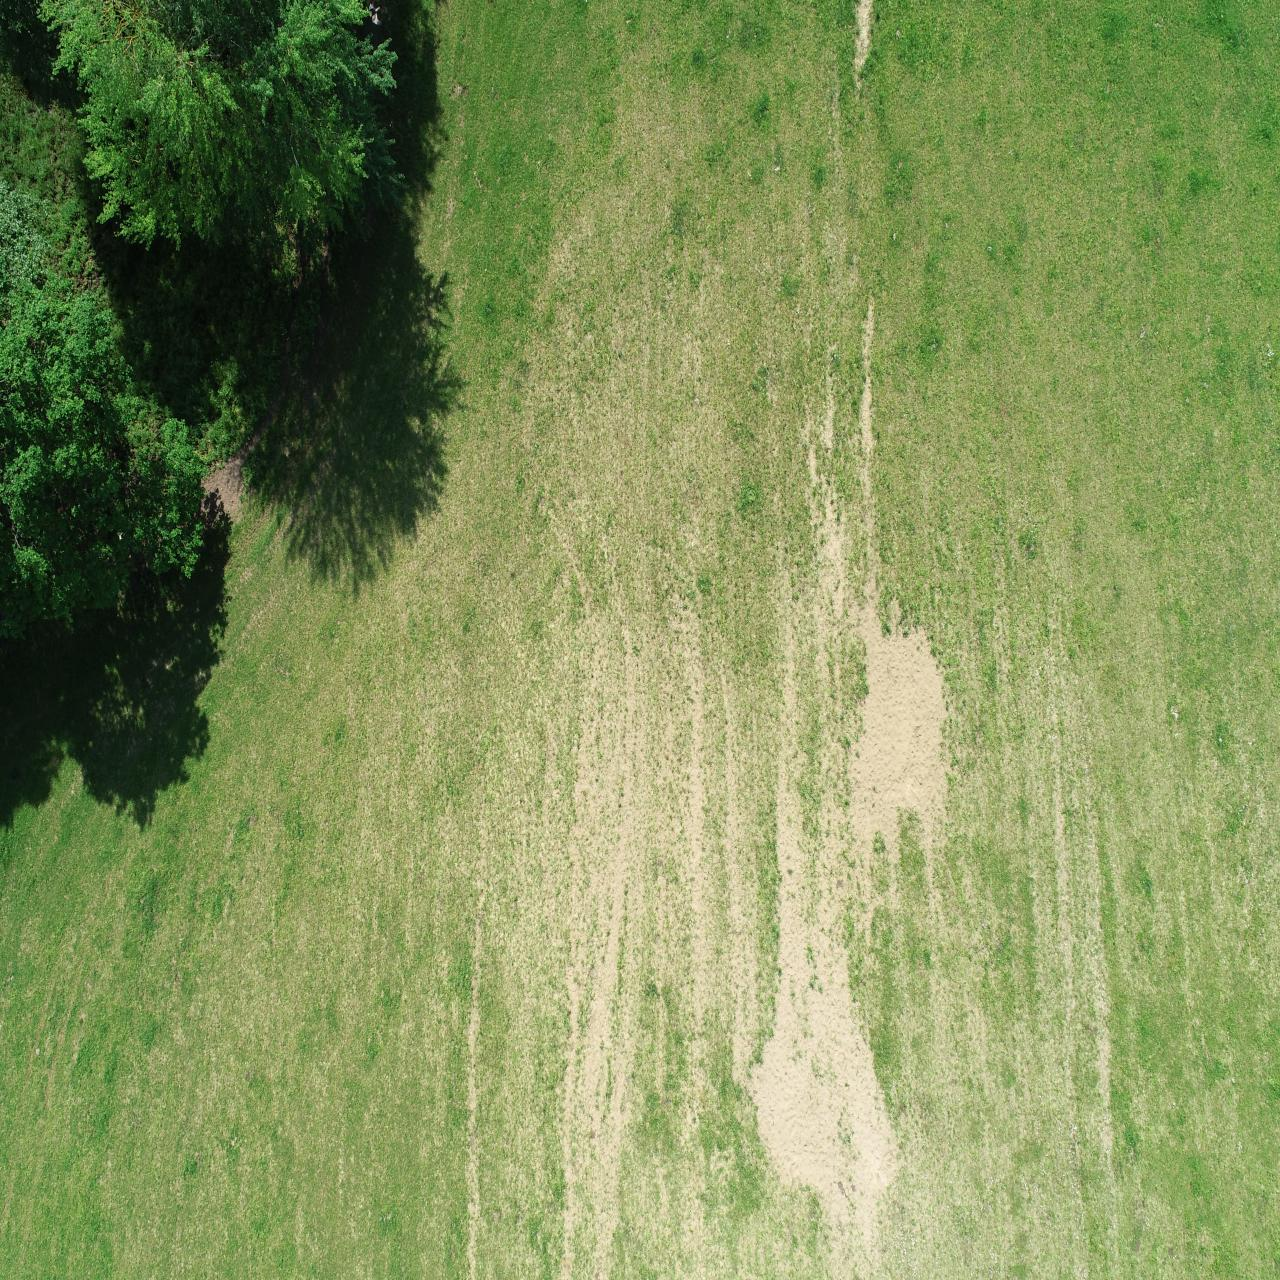cow: (1223, 474, 1251, 491)
